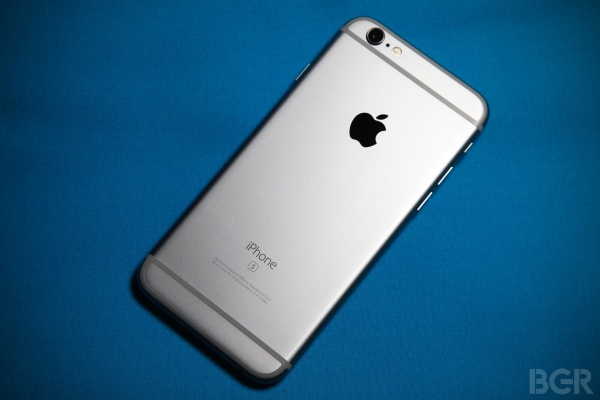apple: (340, 99, 396, 150)
